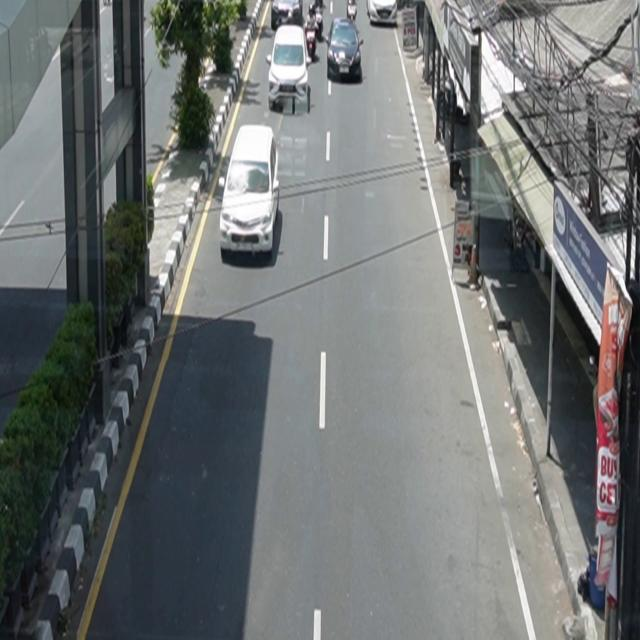car: (220, 124, 281, 258), (267, 25, 310, 112), (326, 18, 364, 82), (367, 1, 398, 26)
